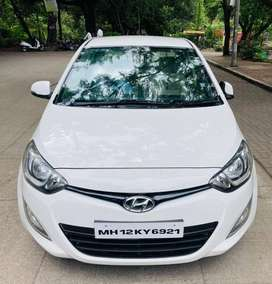MH12KY6921: (94, 221, 184, 237)
